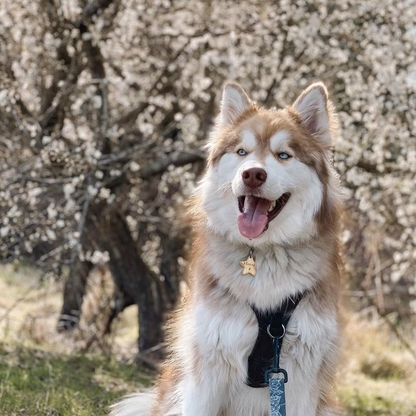husky: (102, 74, 353, 416)
